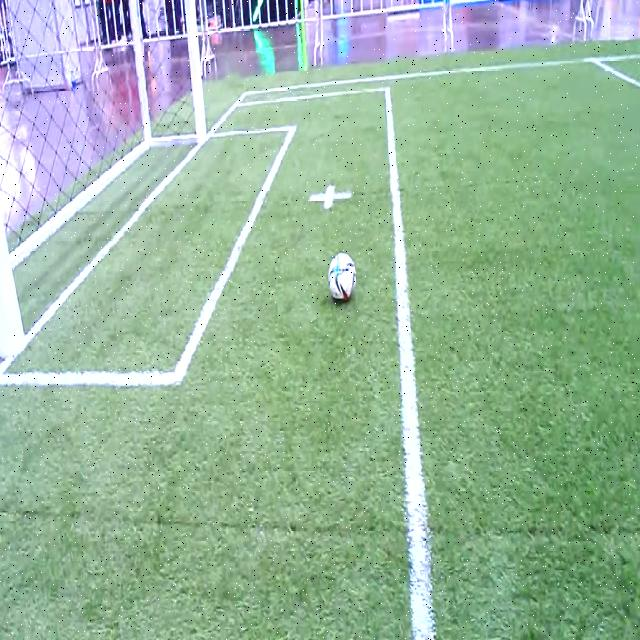ball: (328, 252, 356, 305)
